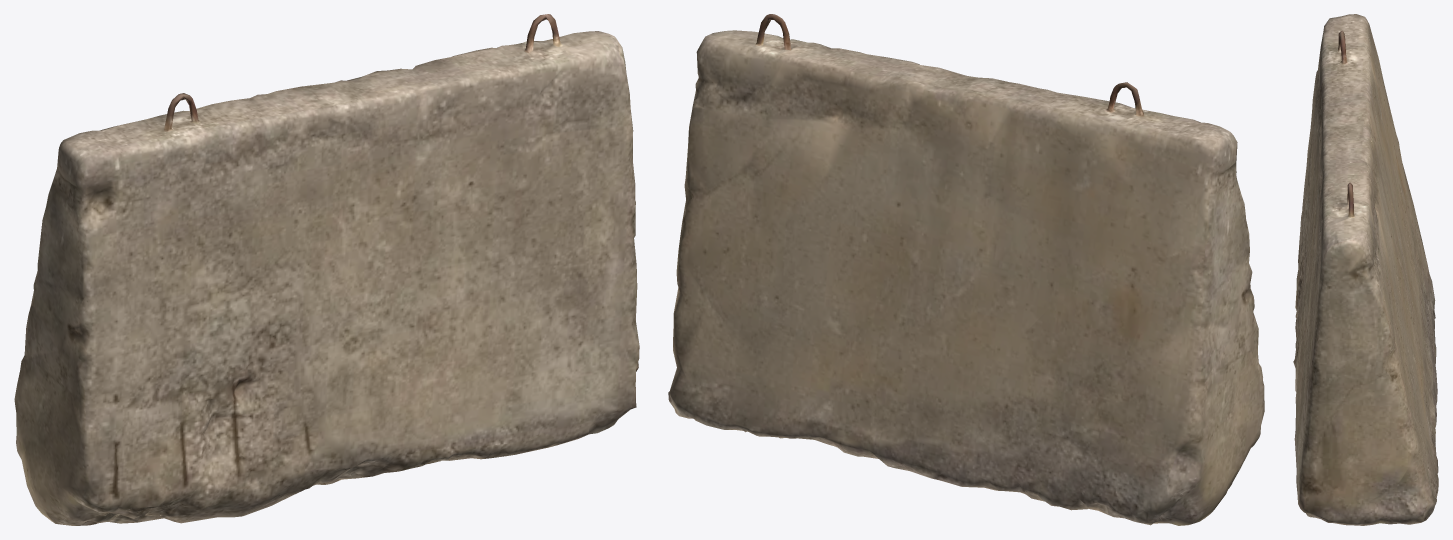
The model's file is concrete_road_barrier_02.glb.
3 views of the same model, side by side, from view 1: azimuth 30°, elevation 25°; view 2: azimuth 150°, elevation 25°; view 3: azimuth 270°, elevation 25° (orthographic). The views are drawn at different scales.
Visible parts, largest first — view 1: concrete_road_barrier_02; view 2: concrete_road_barrier_02; view 3: concrete_road_barrier_02.
Part boxes in pixels (x1=…): concrete_road_barrier_02: x1=14, y1=14, x2=639, y2=525; concrete_road_barrier_02: x1=668, y1=14, x2=1264, y2=525; concrete_road_barrier_02: x1=1293, y1=14, x2=1438, y2=525.
Bounding box in the file's own units: 1.56 × 1.11 × 0.4422.
Materials: 1 (1 with a texture image).
